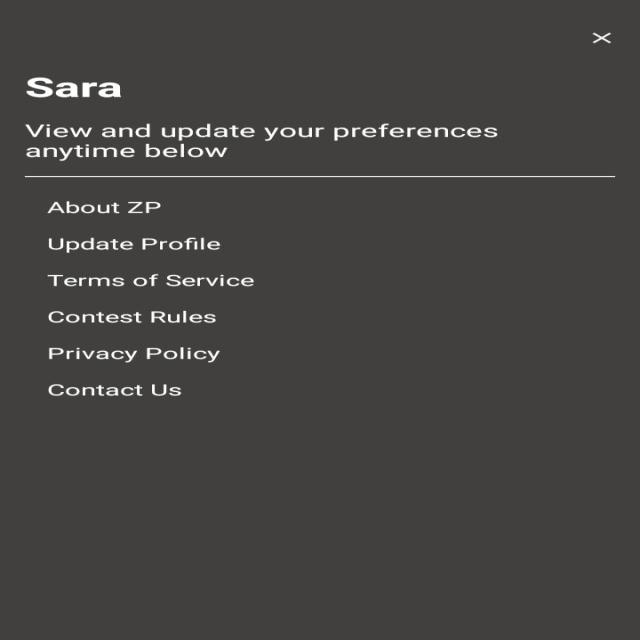Icon: (591, 32, 611, 44)
Text: (25, 123, 498, 161), (48, 236, 220, 254), (48, 347, 220, 363), (46, 274, 254, 286), (47, 310, 216, 323), (26, 77, 122, 98), (47, 383, 181, 396), (45, 200, 162, 213)
